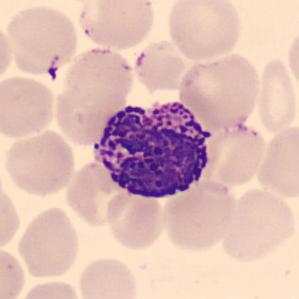Basophil: (86, 92, 219, 204)
Platelets: (46, 65, 59, 83)
RBC: (52, 44, 137, 148), (175, 50, 264, 131), (218, 186, 298, 263), (160, 176, 238, 254), (3, 2, 81, 77), (2, 127, 77, 198), (14, 204, 82, 280), (164, 0, 244, 62), (63, 159, 131, 228), (200, 121, 268, 189), (75, 0, 159, 52), (104, 185, 167, 251), (236, 237, 299, 299), (0, 74, 58, 140), (255, 54, 298, 136), (254, 123, 299, 200), (132, 38, 194, 93), (75, 254, 141, 299), (0, 182, 23, 253), (14, 277, 83, 299), (0, 245, 28, 299), (285, 27, 299, 94), (0, 20, 14, 85)
